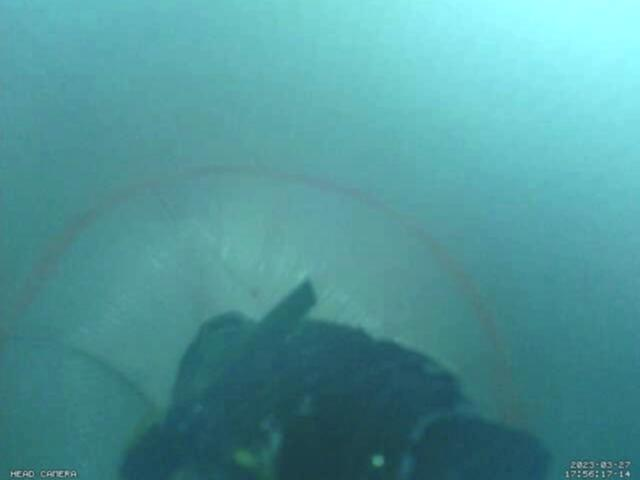head: (0, 163, 529, 435)
